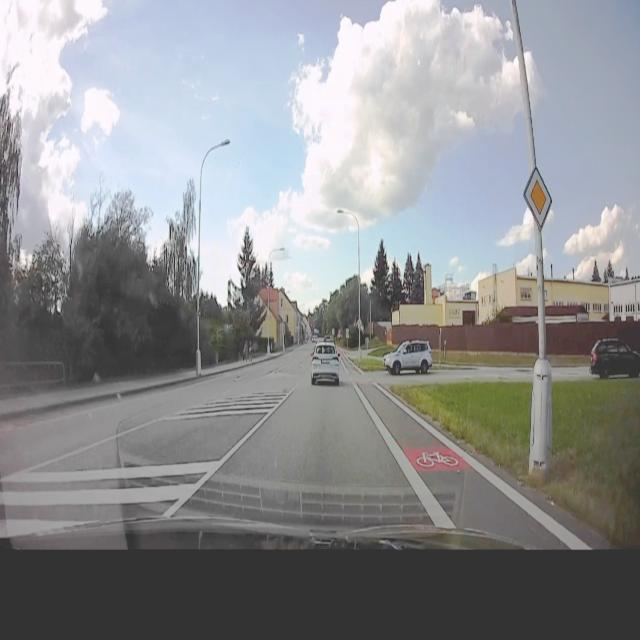Priority road: (522, 163, 554, 235), (356, 317, 364, 328)
